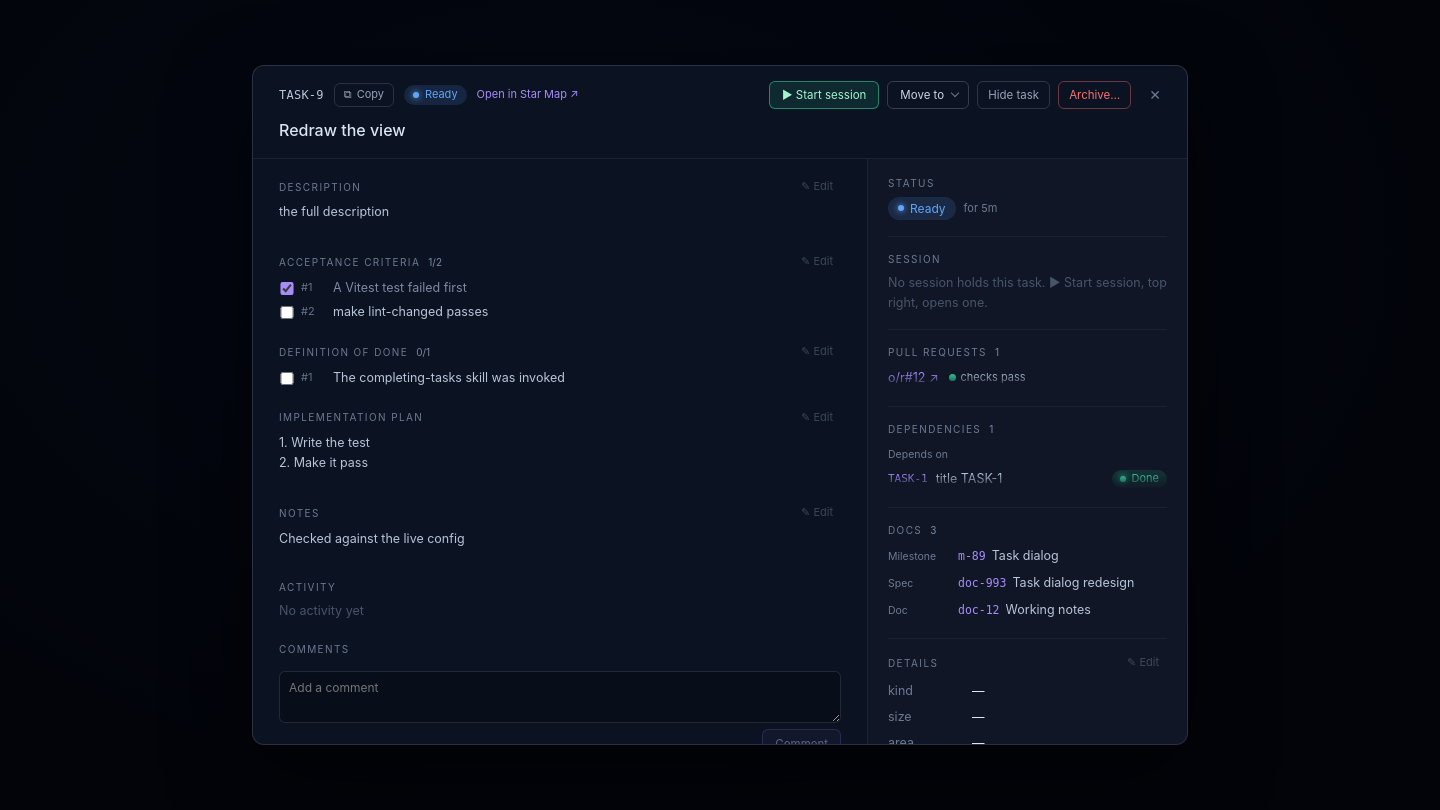
Test: the task view's Docs › opens a spec in the dialog with its mermaid fence drawn, and Back to task restores the task
Click the link with class "doc" that starts with "Spec" at (1011, 582), box x1=888 y1=575 x2=1134 y2=590
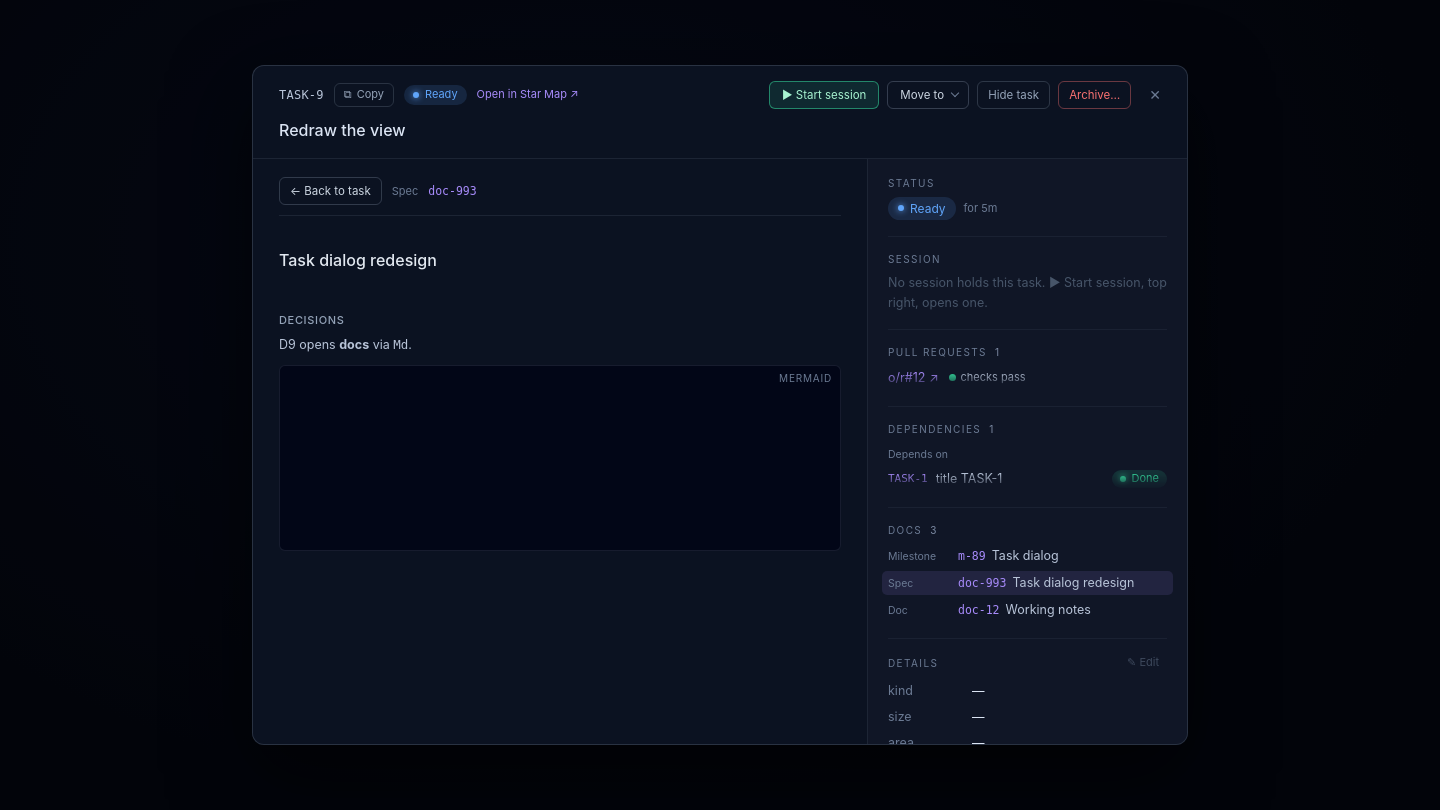
Result: the button "← Back to task" is shown
Result: the text with class "doctitle" reads "Task dialog redesign" at x1=279 y1=250 x2=437 y2=270
Result: the heading "Decisions" is shown at x1=279 y1=313 x2=344 y2=327
Click the button "← Back to task" at (330, 191), box x1=279 y1=177 x2=382 y2=205
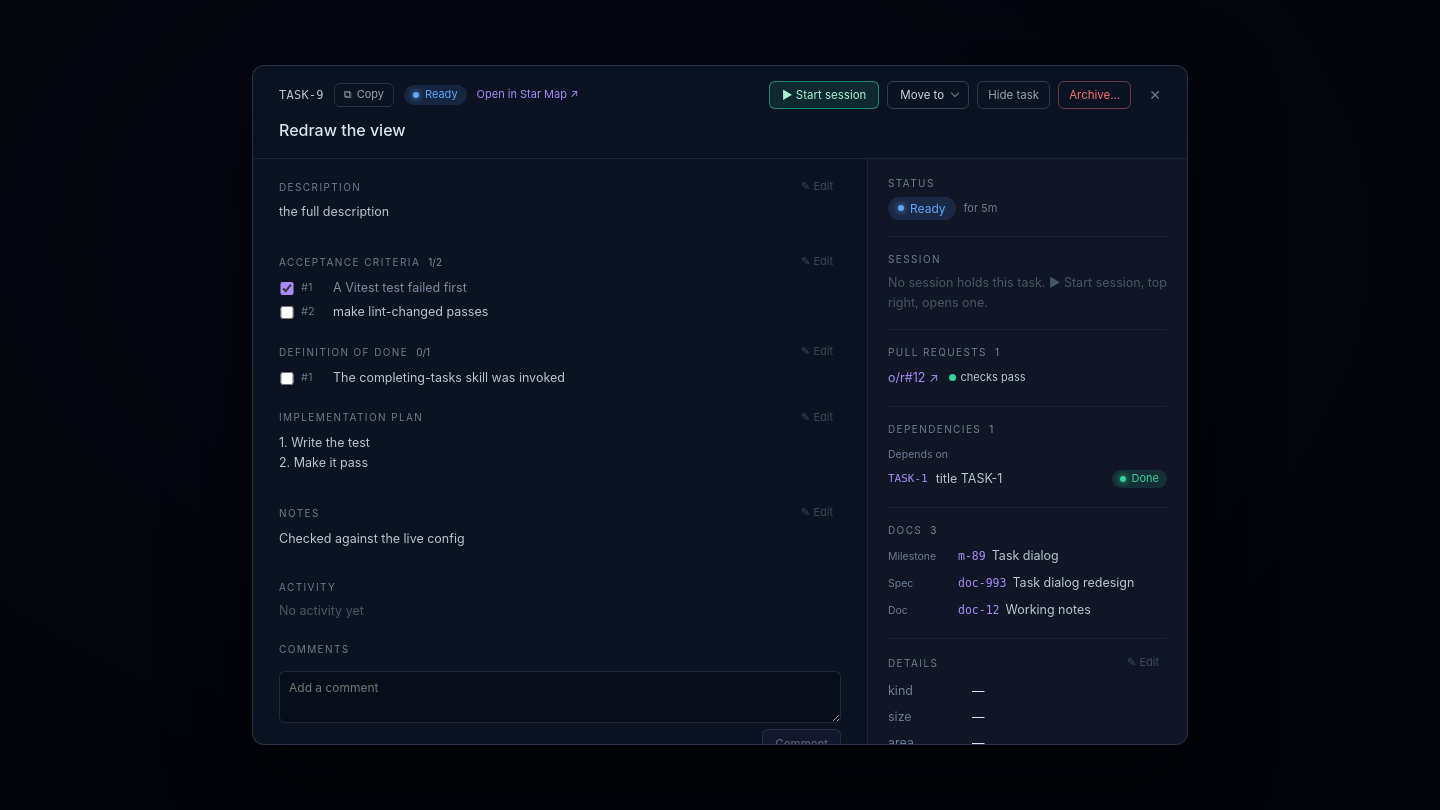
Result: the element with class "docbar" is gone
Result: the element with class "tvleft" shows "Description" at x1=279 y1=181 x2=361 y2=193
